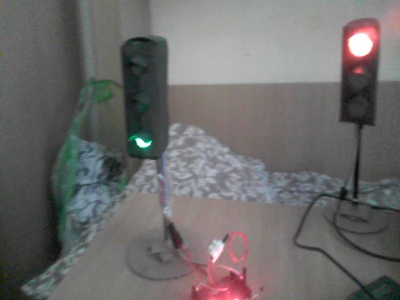trafficlight_green: (125, 43, 161, 156)
trafficlight_red: (342, 25, 380, 121)
